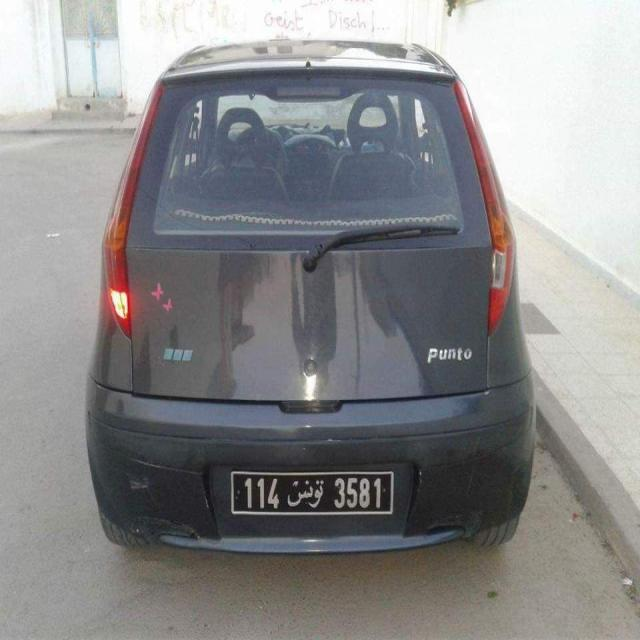LP: (228, 468, 394, 516)
